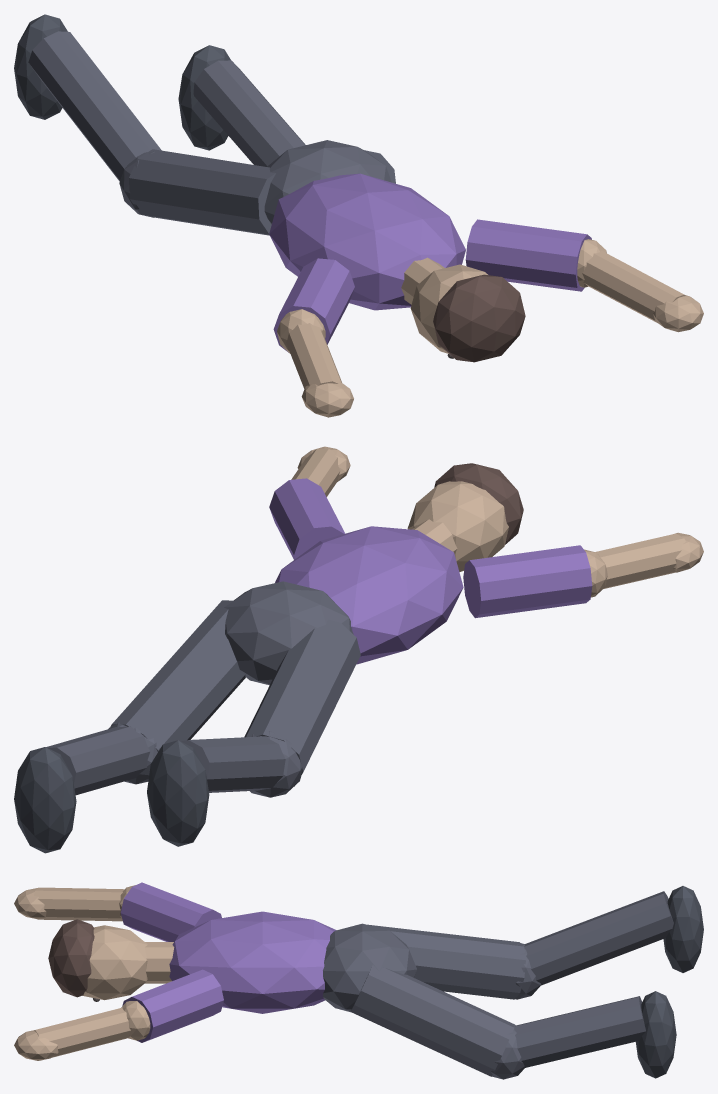
3 renders of one model, top to bottom at view 1: azimuth 30°, elevation 25°; view 2: azimuth 150°, elevation 25°; view 3: azimuth 270°, elevation 25°, orthographic. The views are drawn at different scales.
Visible parts, largest first — view 1: world; view 2: world; view 3: world.
Part boxes in pixels (x1,y1,x2,y2): world: (14, 14, 703, 417); world: (14, 446, 703, 853); world: (14, 882, 703, 1079).
Size of the model in its own units: 1.17 by 0.4556 by 2.14.
